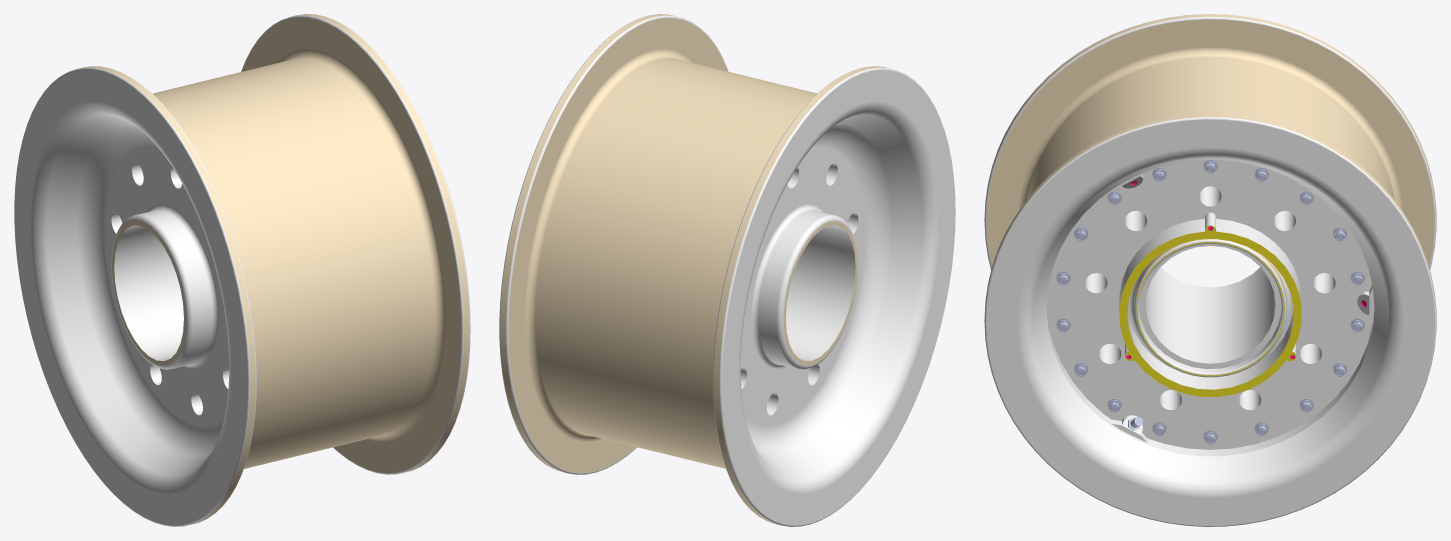
The model's file is 32-41-13-030-801-A01 wheel + valve.fbx.
3 views of the same model, side by side, from view 1: azimuth 30°, elevation 25°; view 2: azimuth 150°, elevation 25°; view 3: azimuth 270°, elevation 25° (orthographic). The views are drawn at different scales.
Parts seen in each view (by area): view 1: Assem1; view 2: Assem1; view 3: Assem1.
Part boxes in pixels (x1,y1,x2,y2): Assem1: [14, 14, 470, 526]; Assem1: [499, 14, 955, 526]; Assem1: [984, 14, 1436, 526].
Bounding box in the file's own units: 24.35 × 44.49 × 44.48.
